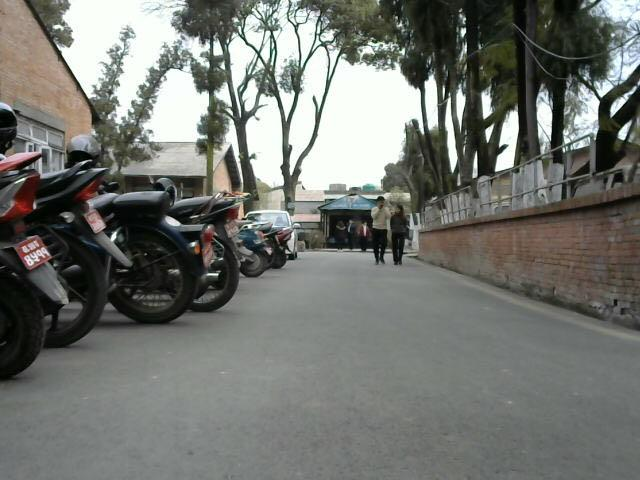Car: (244, 206, 306, 243)
Motorcycle: (36, 113, 111, 350), (0, 88, 56, 402), (114, 178, 206, 336), (184, 184, 243, 306)
Person: (387, 203, 416, 269), (371, 192, 389, 264)
Road: (0, 253, 640, 480)
Tree: (322, 0, 509, 155), (79, 1, 274, 139)
